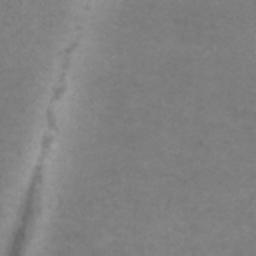Finishing roll printing: (8, 136, 54, 253), (47, 14, 84, 129)
